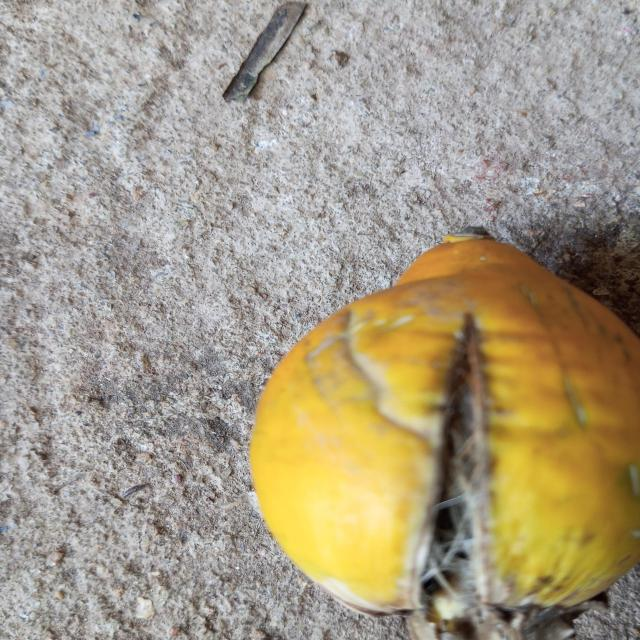damaged: (248, 235, 640, 638)
